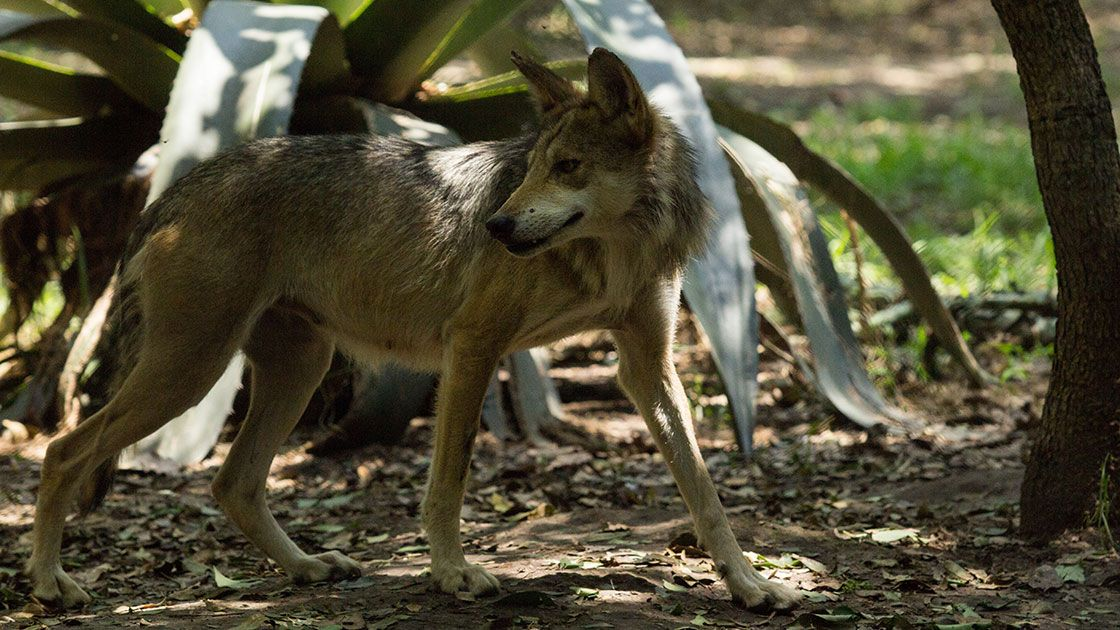Lobo: (67, 70, 814, 615)
